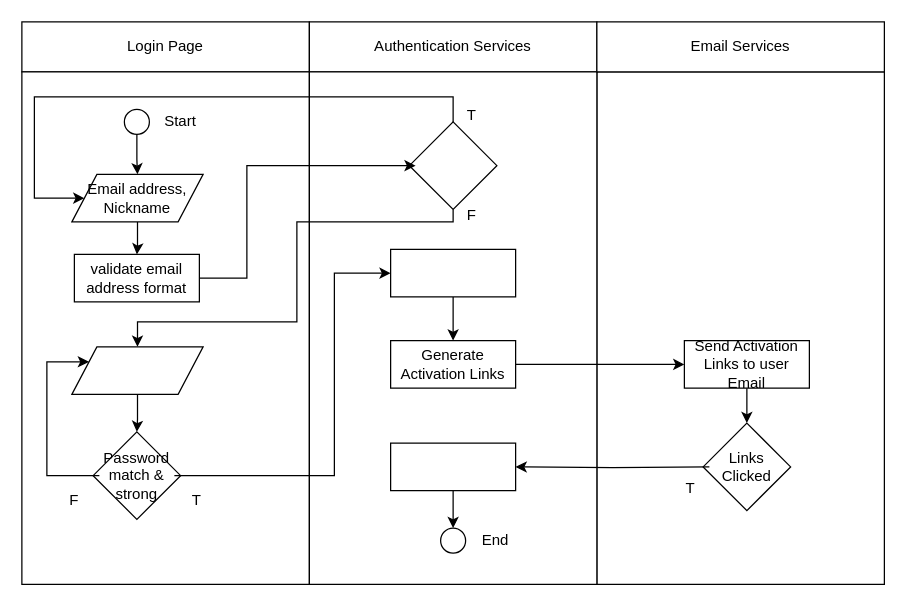
Image size: 906x606. Some labels were removed from this diagram. The shapes that lost their labels are listed below. From the top down, each one's centre as x and y in pixels, then its label:
At point 452,165: "Email is Registered".
At point 452,272: "Register Account on DB".
At point 137,370: "Password".
At point 452,466: "Activate Account".
